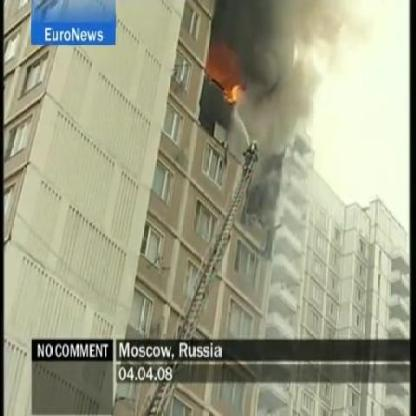fire: (222, 79, 246, 107)
